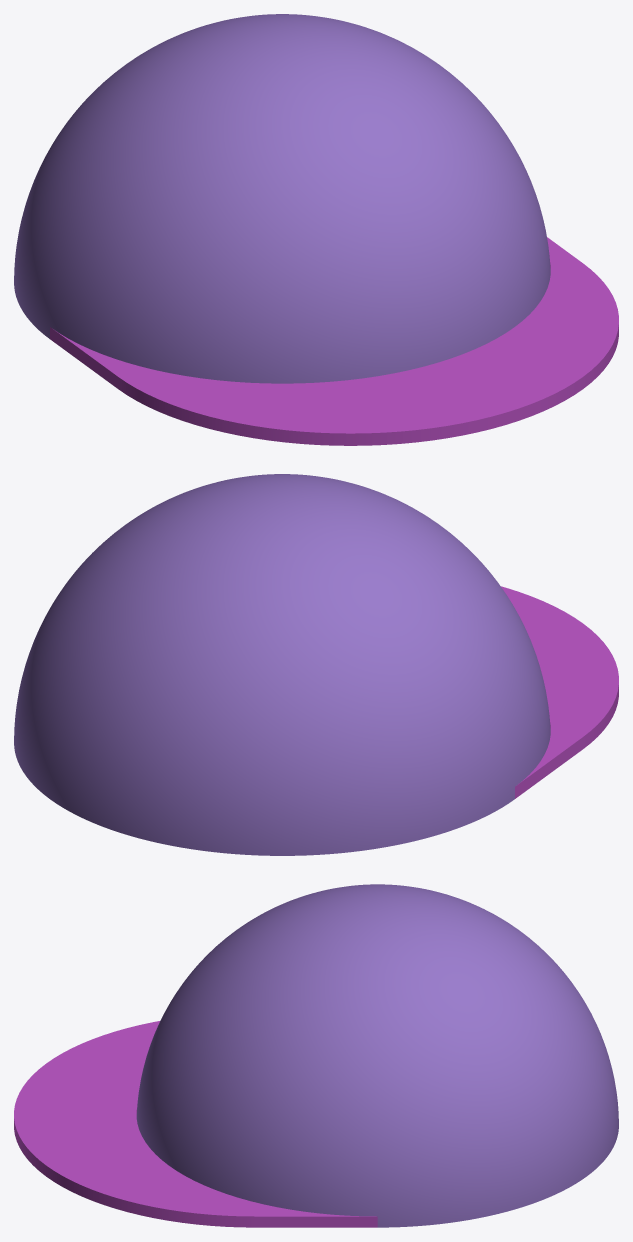
Rendered from Purple Cap.gltf.
3 views of the same model, one above another, from view 1: azimuth 30°, elevation 25°; view 2: azimuth 150°, elevation 25°; view 3: azimuth 270°, elevation 25° (orthographic). The views are drawn at different scales.
Visible parts, largest first — view 1: Body, Bill; view 2: Body, Bill; view 3: Body, Bill.
Boxes of the visible parts, bbox=[...] form: Body: bbox=[14, 14, 550, 383]; Bill: bbox=[50, 237, 618, 445]; Body: bbox=[14, 474, 550, 855]; Bill: bbox=[501, 586, 618, 798]; Body: bbox=[136, 884, 618, 1227]; Bill: bbox=[14, 1021, 377, 1227].
Bounding box in the file's own units: 1 × 0.5 × 1.25.
